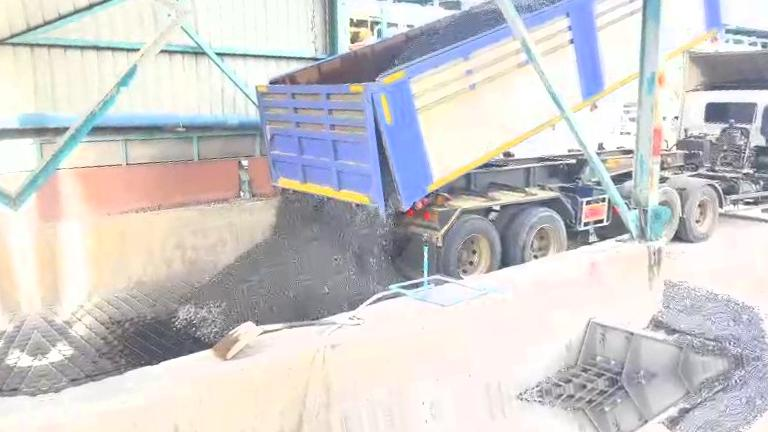gravel: (176, 194, 402, 342), (651, 280, 768, 361), (388, 1, 505, 69), (512, 0, 613, 15)
